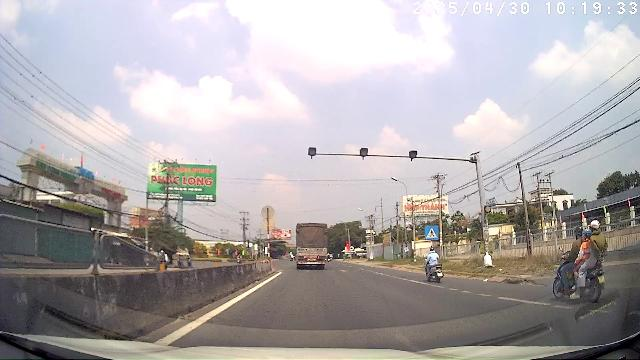423a-duong-nguoi-di-bo-sang-ngang-1: (426, 226, 438, 240)
